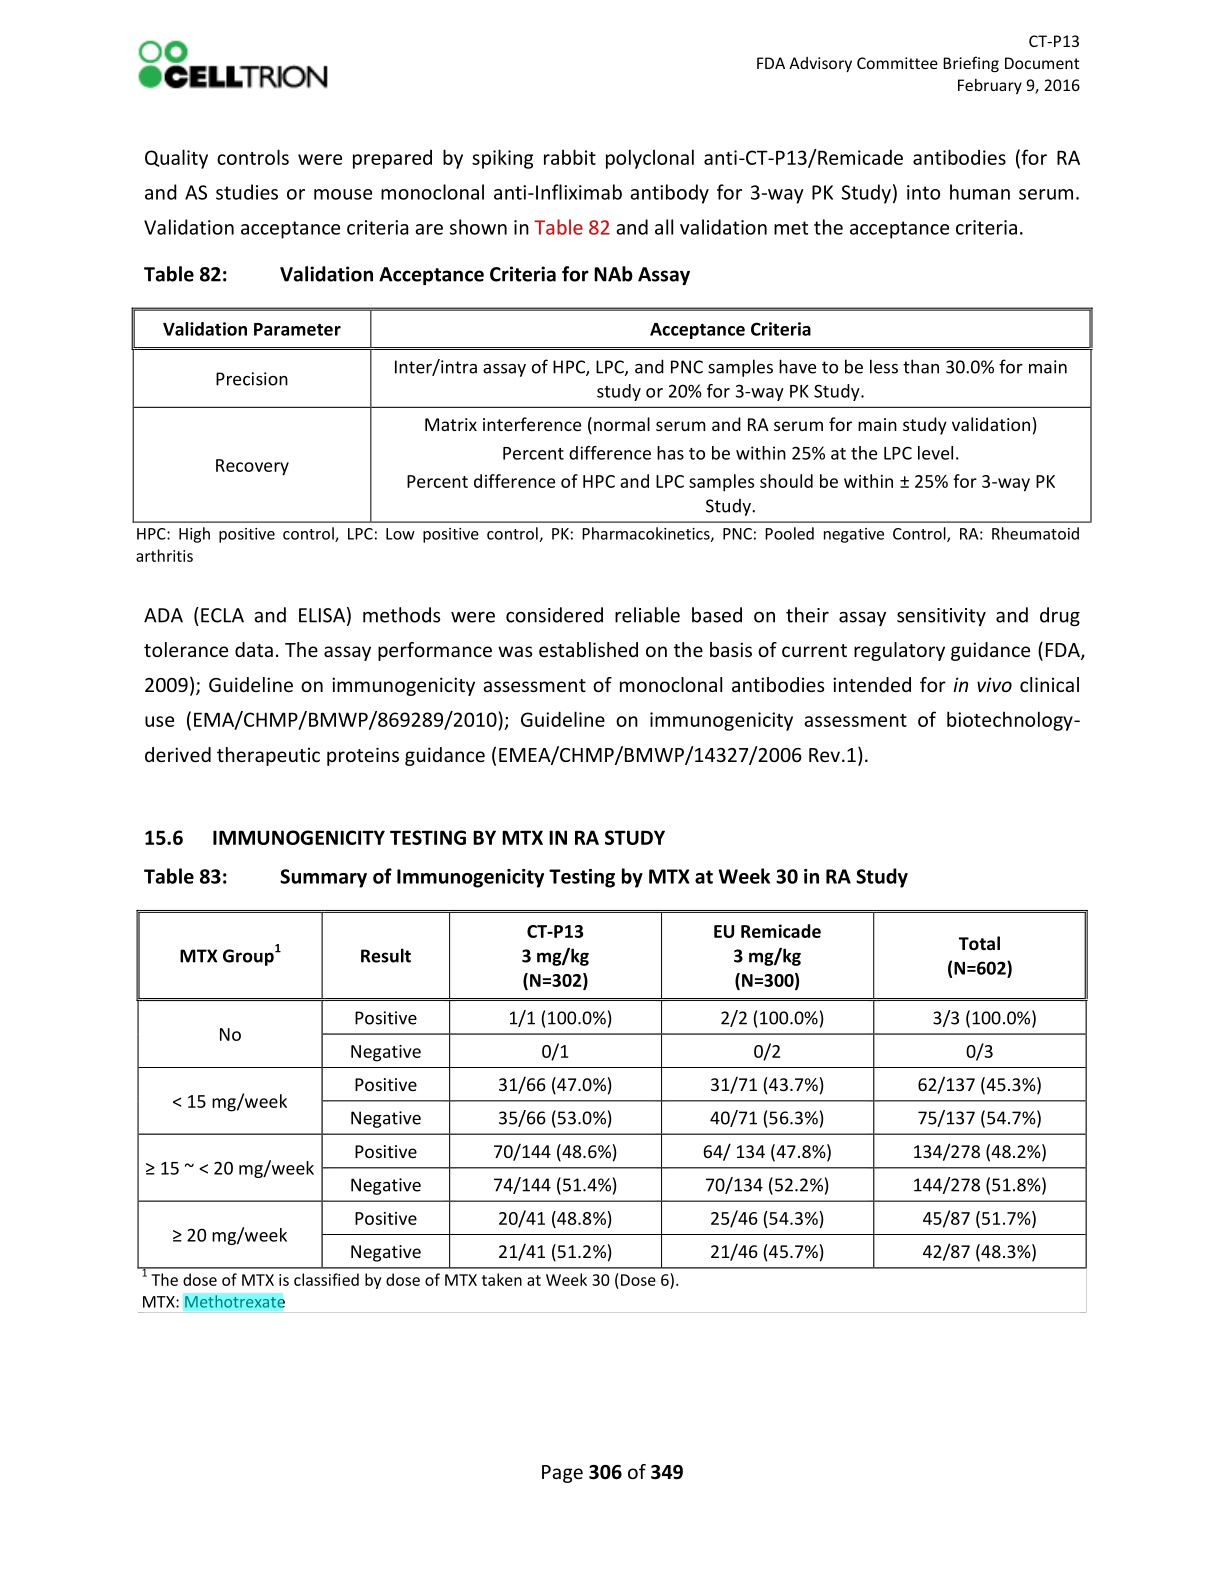full_lined: (130, 306, 1093, 525)
merged_cells: (135, 909, 1086, 1270)
